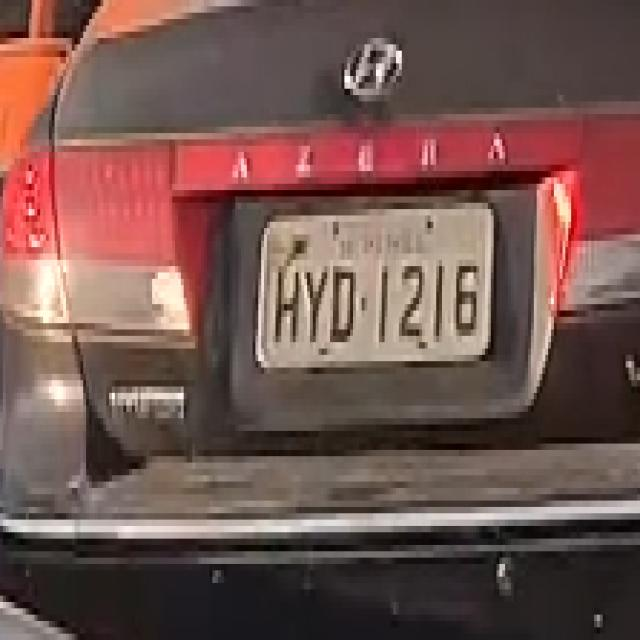Placa_mercosul_carro: (256, 202, 496, 365)
